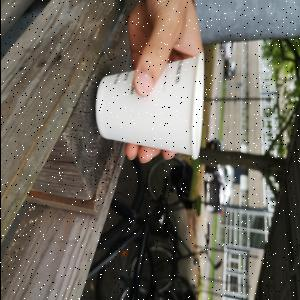Cup: (95, 50, 206, 162)
